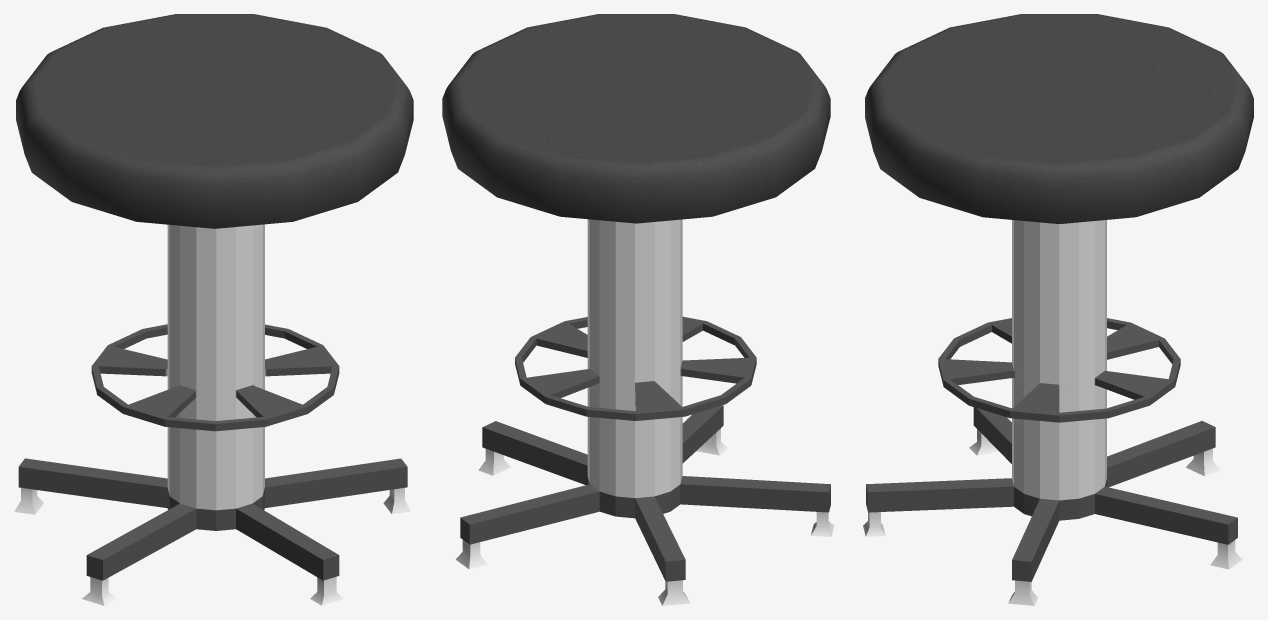
The model's file is Stool.fbx.
The picture shows the model from 3 angles, left to right: view 1: azimuth 30°, elevation 25°; view 2: azimuth 150°, elevation 25°; view 3: azimuth 270°, elevation 25°; orthographic projection. The views are drawn at different scales.
Parts seen in each view (by area): view 1: Stool; view 2: Stool; view 3: Stool.
Boxes of the visible parts, x1,y1,x2,y2 form: Stool: [14, 14, 413, 605]; Stool: [442, 14, 834, 605]; Stool: [863, 14, 1253, 605].
Bounding box in the file's own units: 1.54 × 1.9 × 1.55.
Materials: 3 (3 with a texture image).
